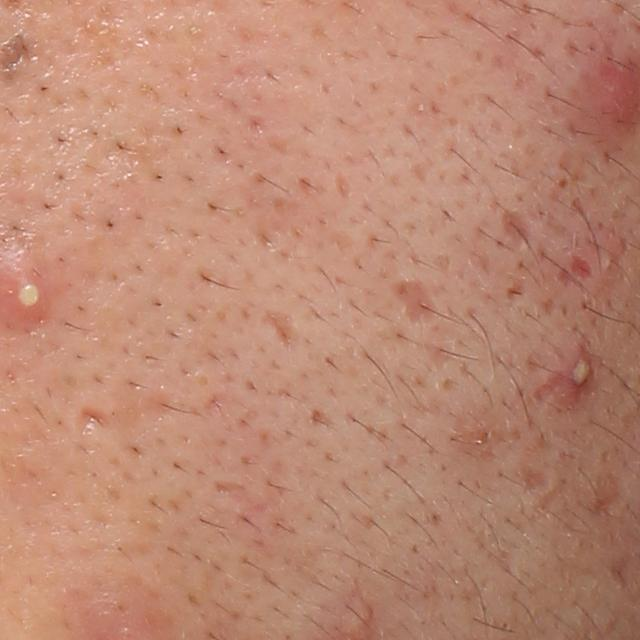atrophic_scar: (391, 274, 446, 331), (528, 370, 583, 417), (583, 471, 628, 523), (263, 309, 307, 357), (497, 203, 533, 252), (534, 480, 570, 519), (516, 459, 551, 495), (73, 408, 112, 439)
comedo: (553, 175, 572, 191)
pustule: (560, 348, 594, 392)
